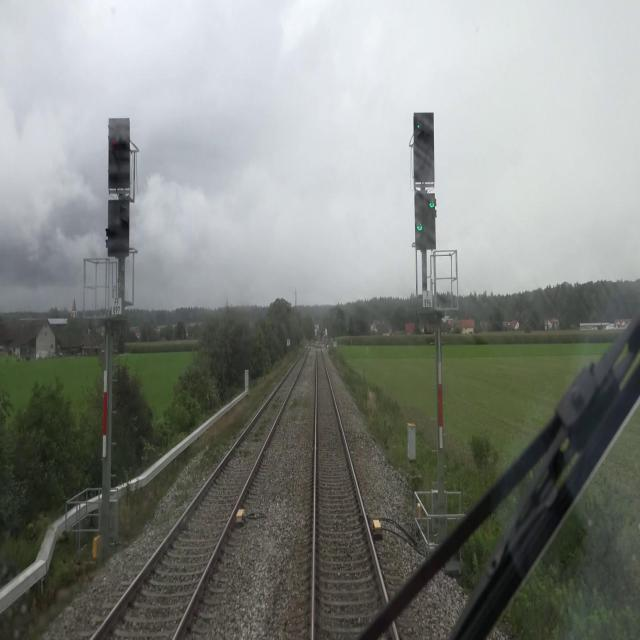rail-track: (96, 353, 305, 639), (316, 350, 394, 639)
